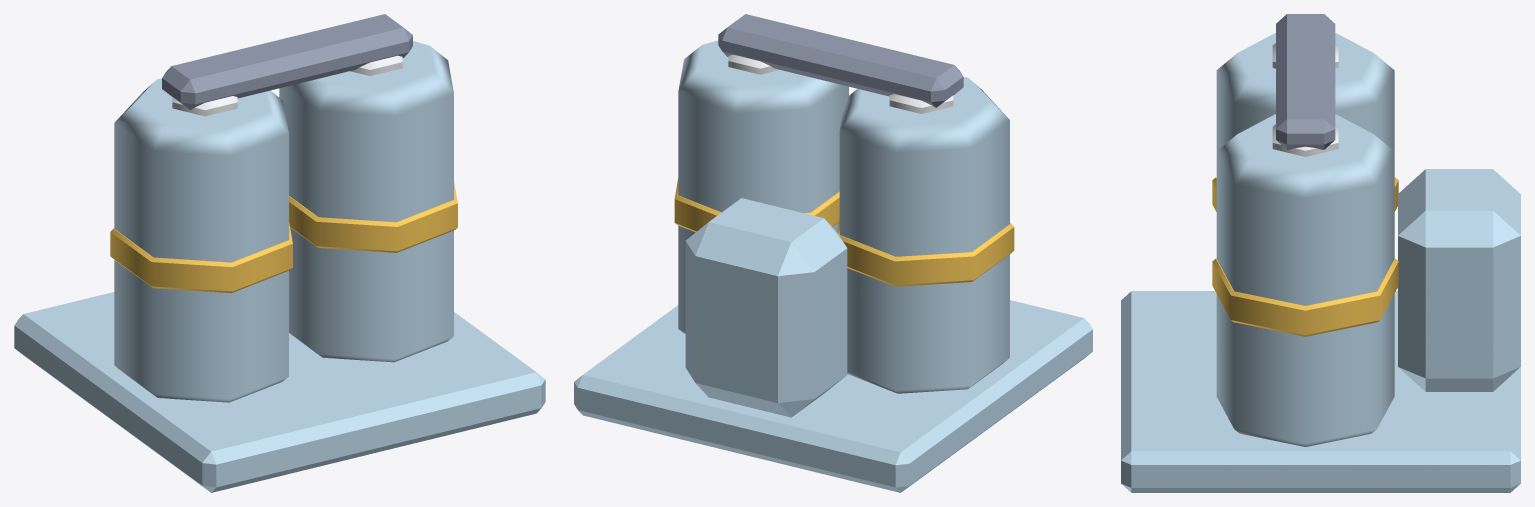
Rendered from R4X_Battery_LOD1.glb.
3 views of the same model, side by side, from view 1: azimuth 30°, elevation 25°; view 2: azimuth 150°, elevation 25°; view 3: azimuth 270°, elevation 25° (orthographic). The views are drawn at different scales.
Visible parts, largest first — view 1: R4X_Battery_LOD1; view 2: R4X_Battery_LOD1; view 3: R4X_Battery_LOD1.
Part boxes in pixels (x1,y1,x2,y2): R4X_Battery_LOD1: (14, 14, 545, 492); R4X_Battery_LOD1: (574, 14, 1092, 492); R4X_Battery_LOD1: (1121, 14, 1520, 492).
Size of the model in its own units: 0.52 by 0.497 by 0.52.
